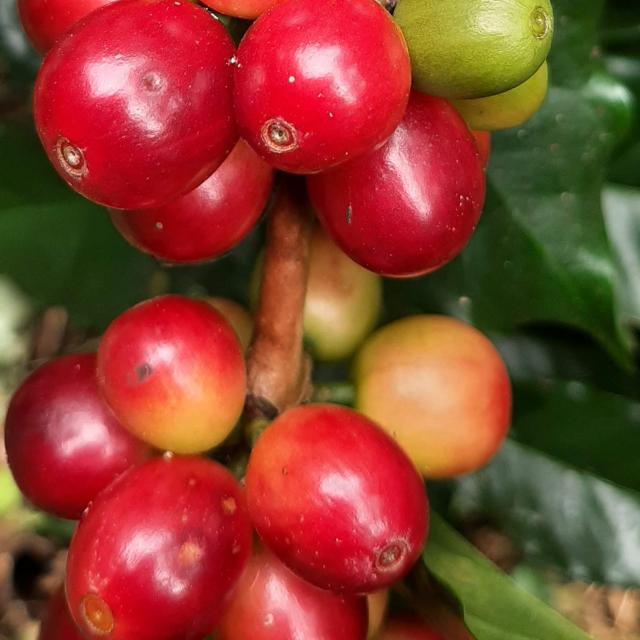Ripe: (33, 0, 238, 209), (245, 405, 429, 595), (65, 456, 252, 640), (307, 90, 486, 278), (234, 0, 412, 174), (3, 354, 151, 520), (108, 138, 274, 264), (214, 540, 368, 640)
Unripe: (353, 315, 512, 480), (97, 295, 246, 454), (394, 0, 554, 98), (304, 224, 382, 362), (450, 60, 549, 130)
